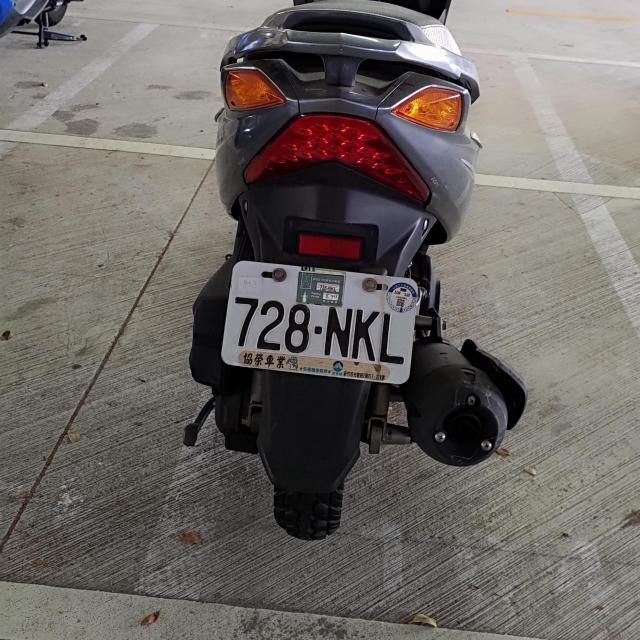W: (222, 259, 422, 385)
